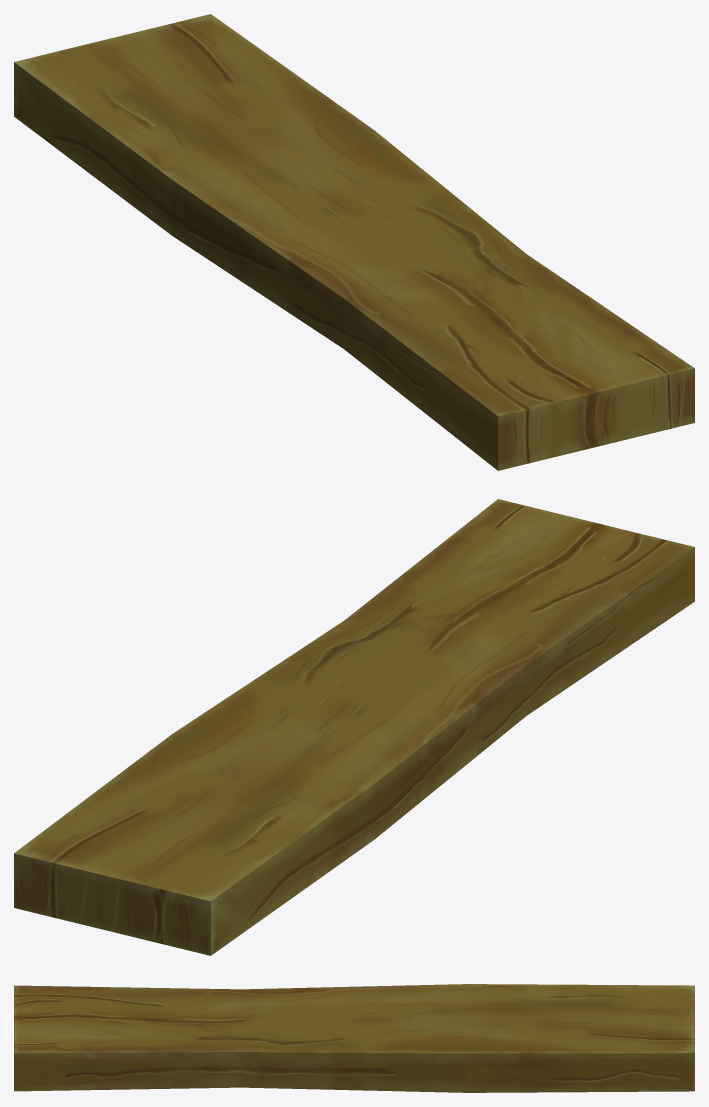
File: Wooden_floor_22.fbx
The picture shows the model from 3 angles, top to bottom: view 1: azimuth 30°, elevation 25°; view 2: azimuth 150°, elevation 25°; view 3: azimuth 270°, elevation 25°; orthographic projection. The views are drawn at different scales.
Visible parts, largest first — view 1: Cube.002; view 2: Cube.002; view 3: Cube.002.
Boxes of the visible parts, <box> form: Cube.002: <box>14,14,694,470</box>; Cube.002: <box>14,499,694,955</box>; Cube.002: <box>14,984,694,1092</box>.
Size of the model in its own units: 0.7936 by 0.2102 by 3.29.
